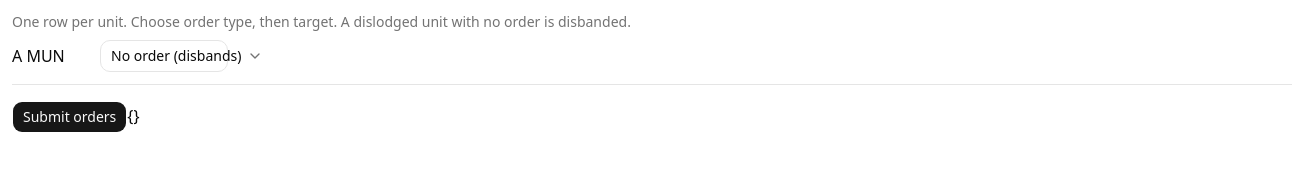
Test case: retreat phase › offers Disband and submits the legal string
Press Enter in the dropdown named "Order type for A MUN", box top-left (100, 40), bottom-right (228, 72)
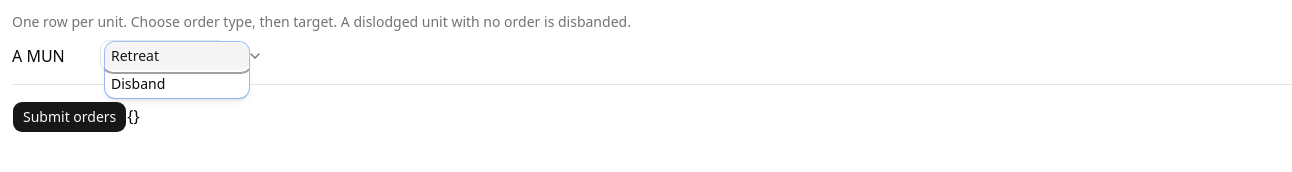
Check: the options read "Retreat", "Disband", in this order
Click the option "Disband": {"x": 138, "y": 84} top-left (111, 74), bottom-right (165, 93)
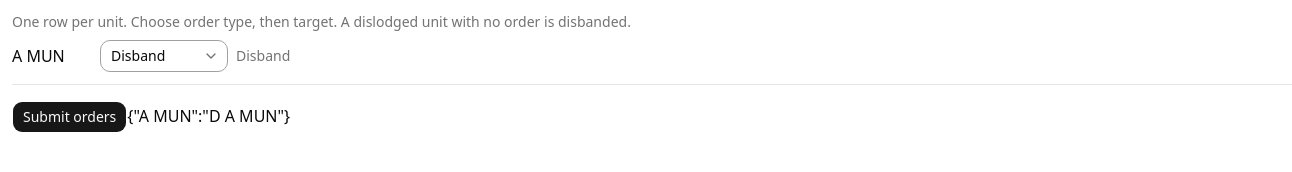
Check: the text with test id "sel" reads "{\"A MUN\":\"D A MUN\"}", box top-left (127, 105), bottom-right (290, 127)
